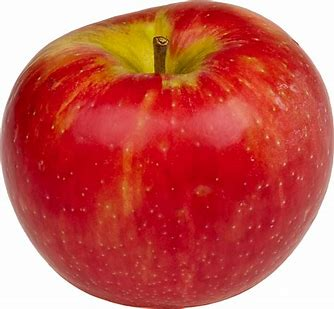apple: (1, 1, 333, 308)
